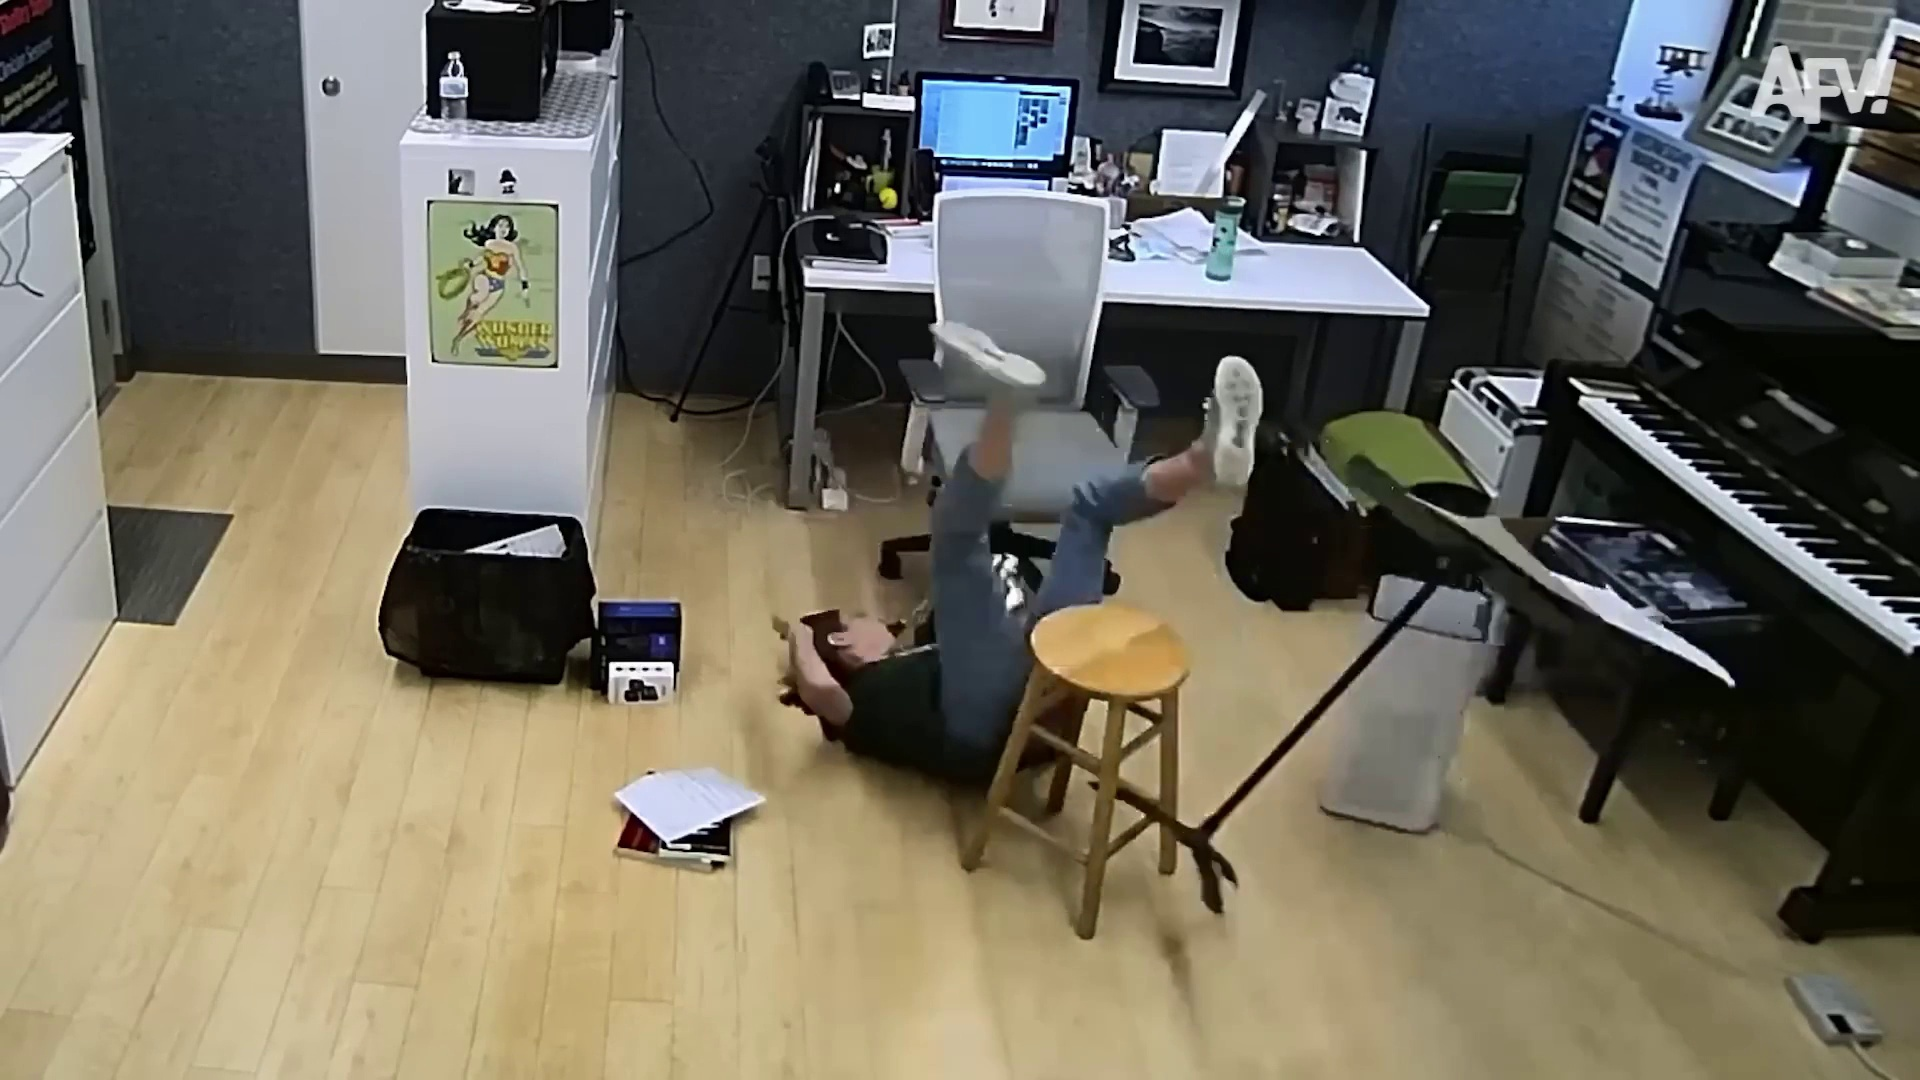fall: (666, 278, 1288, 878)
